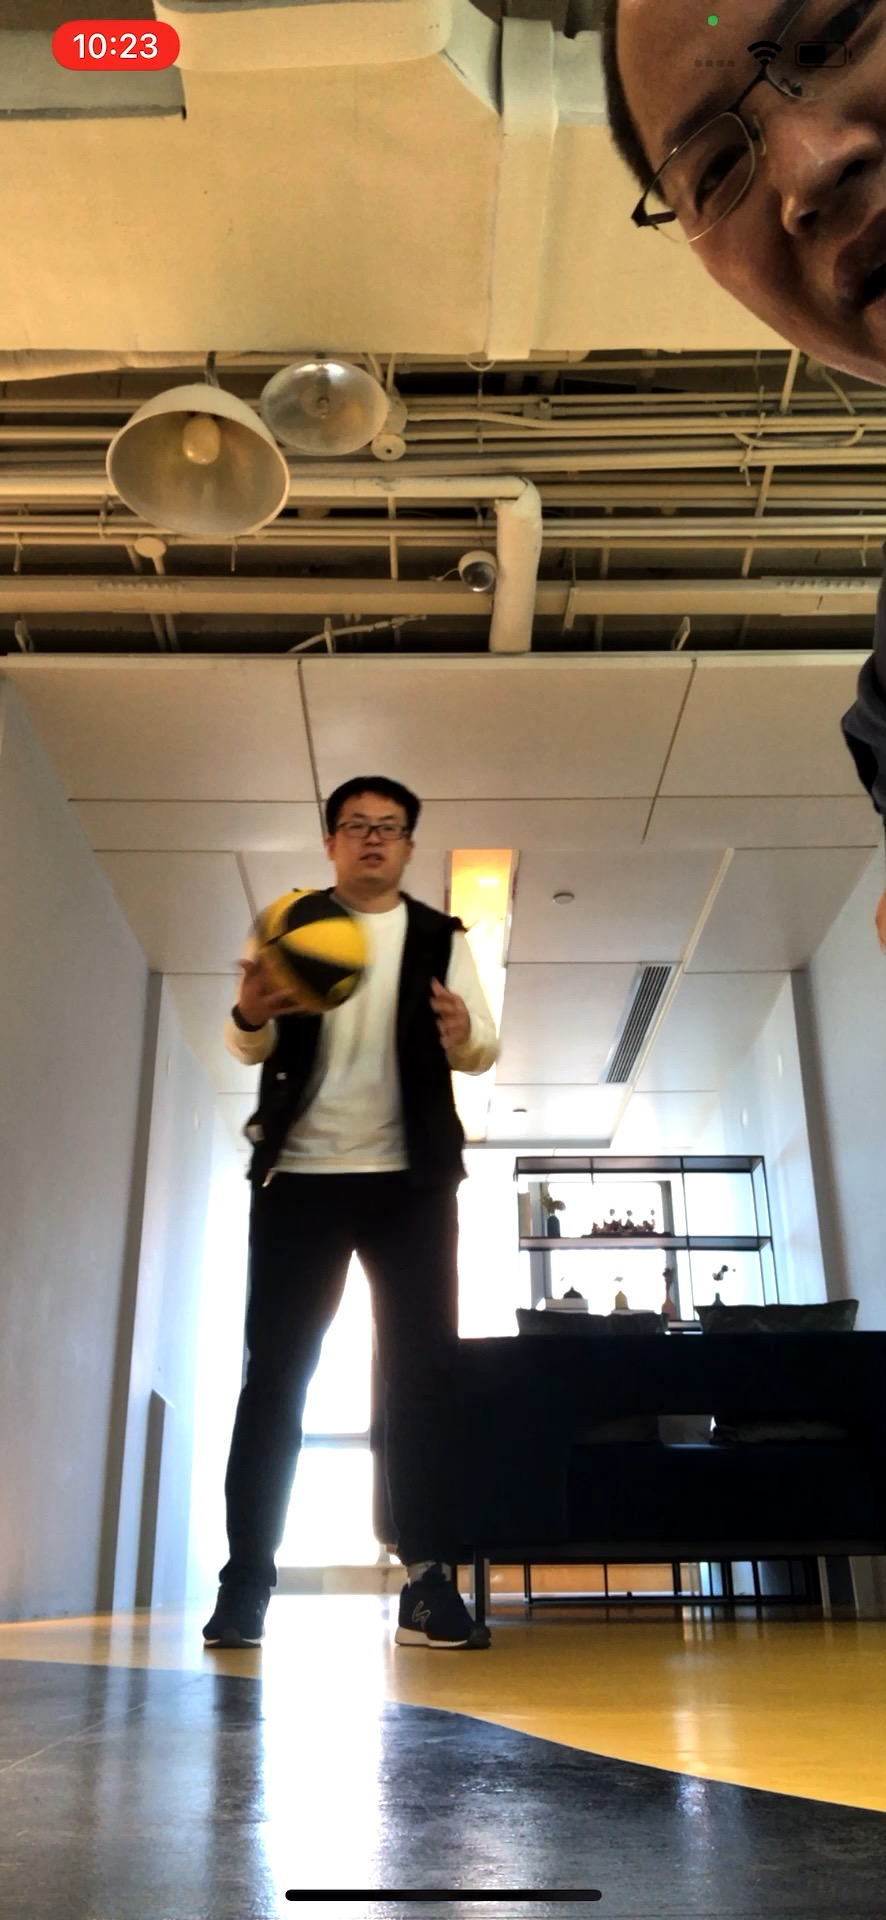ball: (245, 890, 370, 1011)
